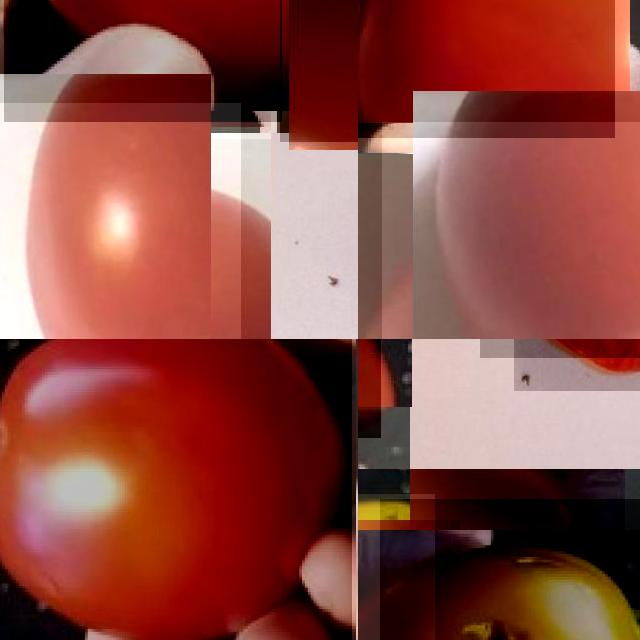Fresh Tomato: (0, 339, 352, 640), (0, 103, 241, 339), (381, 122, 640, 339), (358, 0, 615, 138), (4, 0, 282, 122)
Rotten Tomato: (380, 499, 640, 640)
